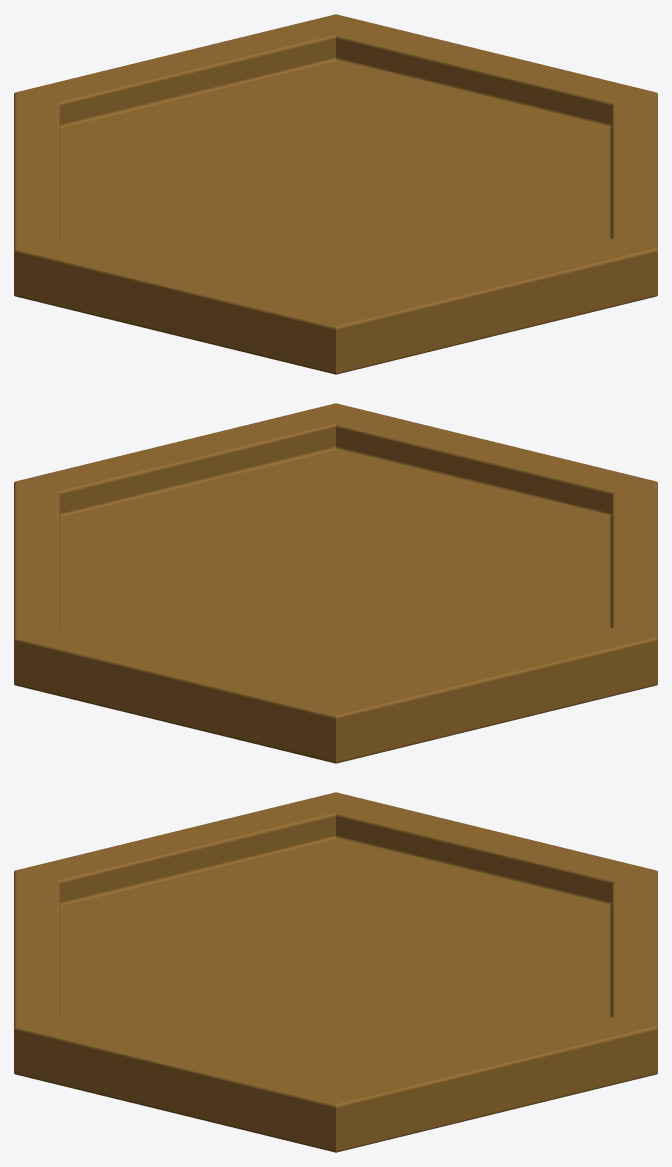
The model's file is Board.glb.
3 views of the same model, one above another, from view 1: azimuth 30°, elevation 25°; view 2: azimuth 150°, elevation 25°; view 3: azimuth 270°, elevation 25° (orthographic).
Parts seen in each view (by area): view 1: BaseCylinder; view 2: BaseCylinder; view 3: BaseCylinder.
Boxes of the visible parts, bbox=[...] form: BaseCylinder: bbox=[14, 14, 657, 374]; BaseCylinder: bbox=[14, 403, 657, 763]; BaseCylinder: bbox=[14, 792, 657, 1152].
Bounding box in the file's own units: 7 × 0.5 × 6.06.
